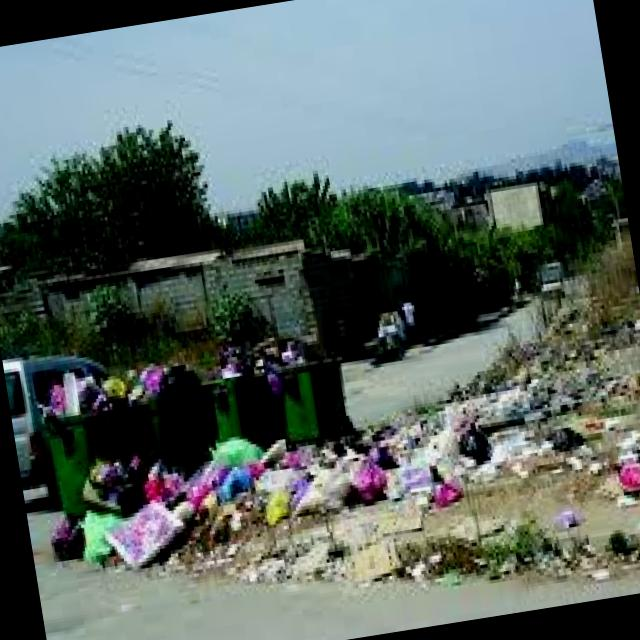garbage: (27, 284, 640, 596)
